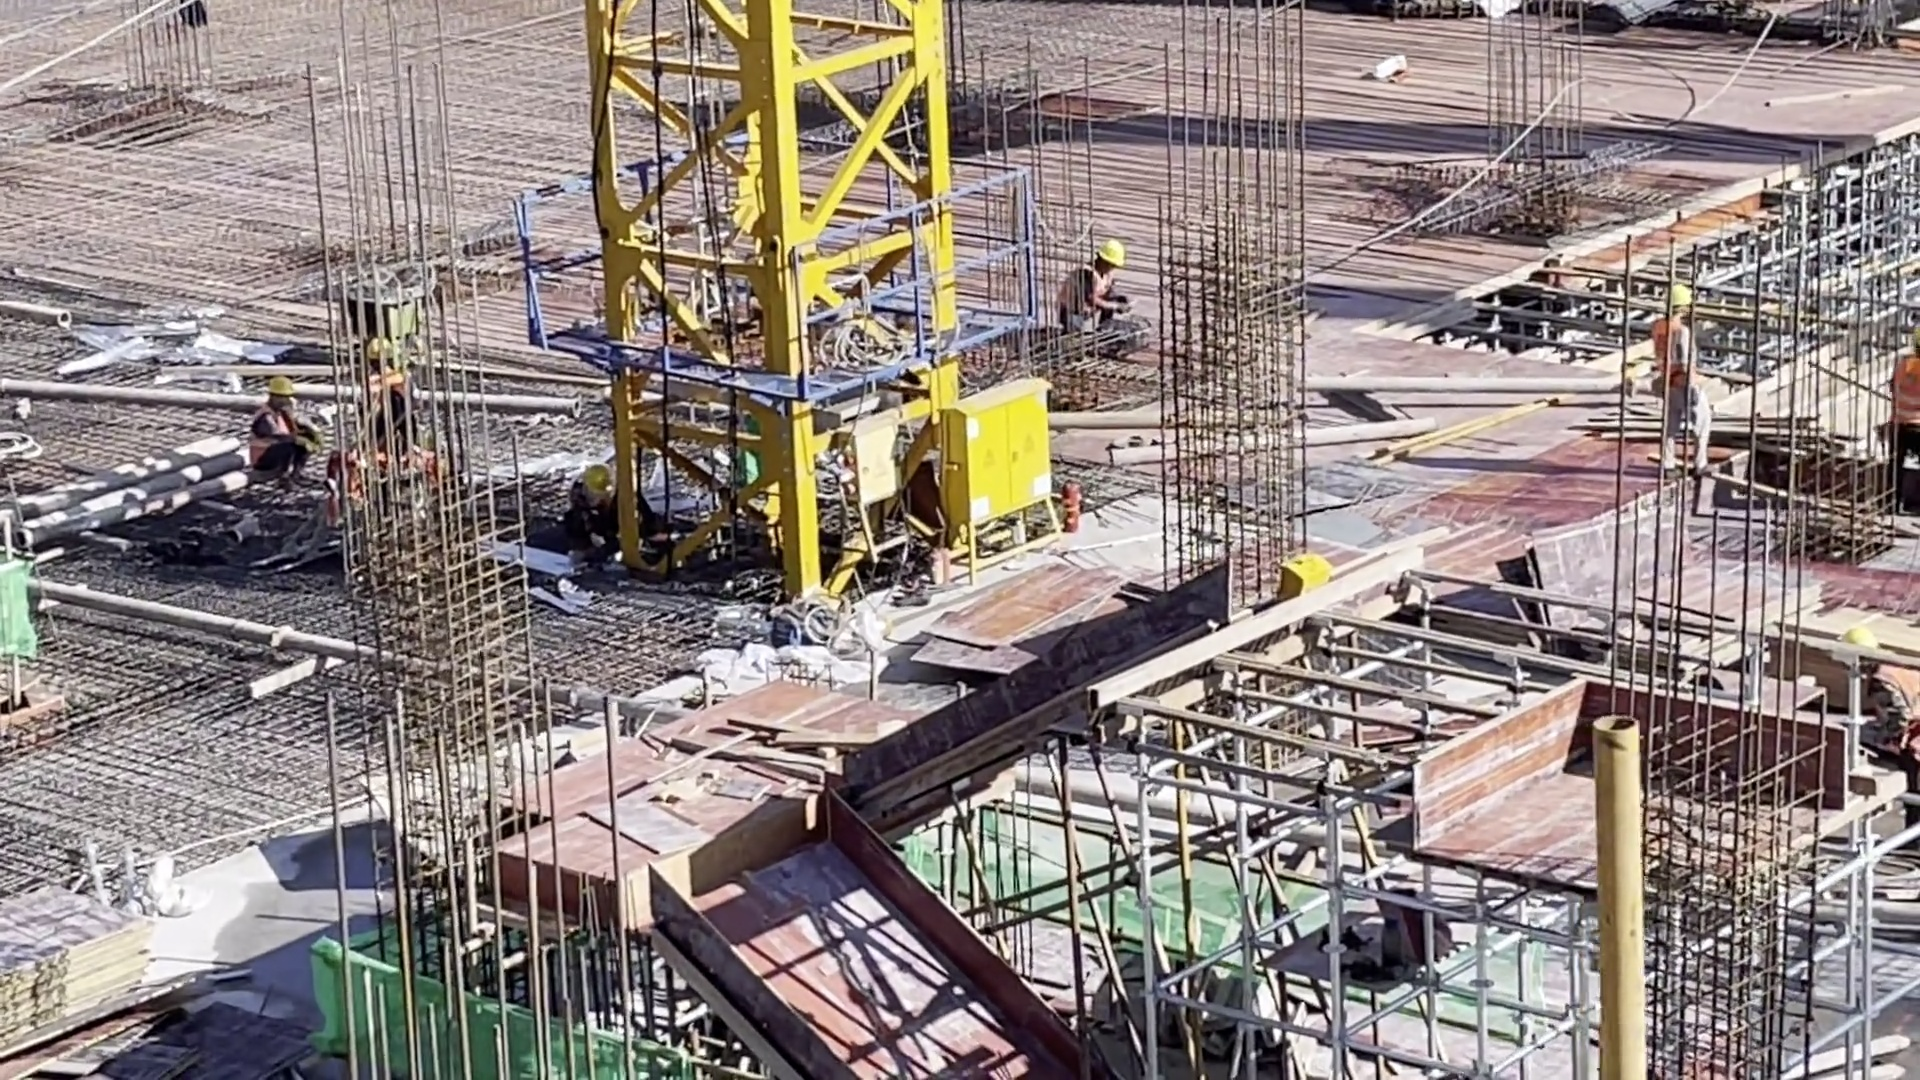helmet: (1099, 238, 1133, 272), (265, 377, 297, 407), (1661, 282, 1697, 305)
person: (1835, 627, 1920, 792), (1654, 275, 1706, 480), (242, 378, 326, 484), (1056, 243, 1135, 339), (1891, 315, 1920, 525), (568, 454, 616, 567)
vest: (1056, 261, 1120, 330), (1649, 319, 1697, 395), (247, 413, 289, 479), (1891, 348, 1920, 430)
